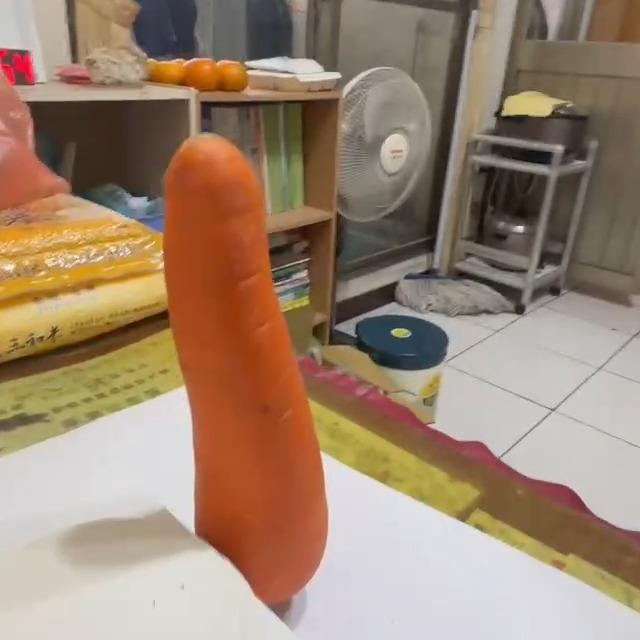carrot: (162, 131, 331, 606)
